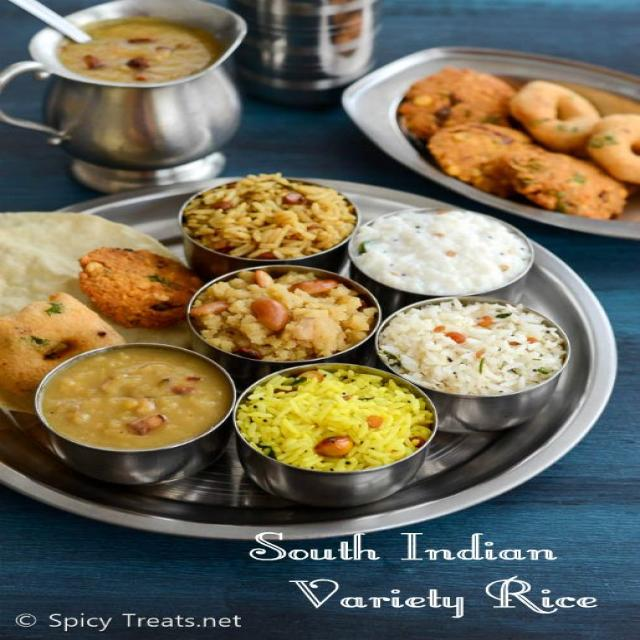veg meals: (9, 166, 604, 523)
